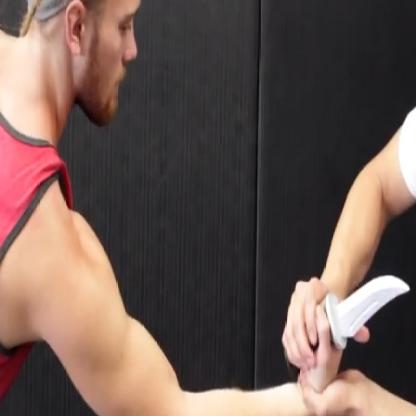knife: (283, 257, 415, 387)
